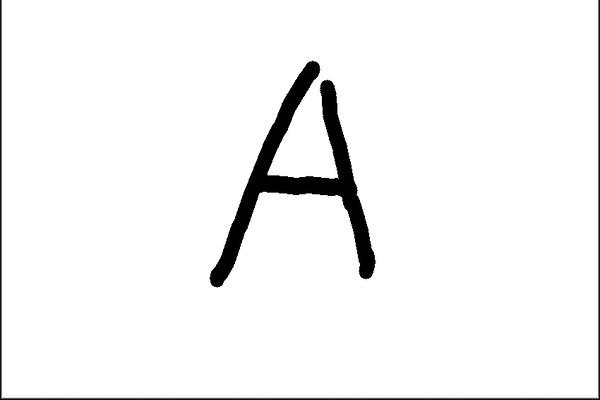A: (196, 50, 383, 290)
